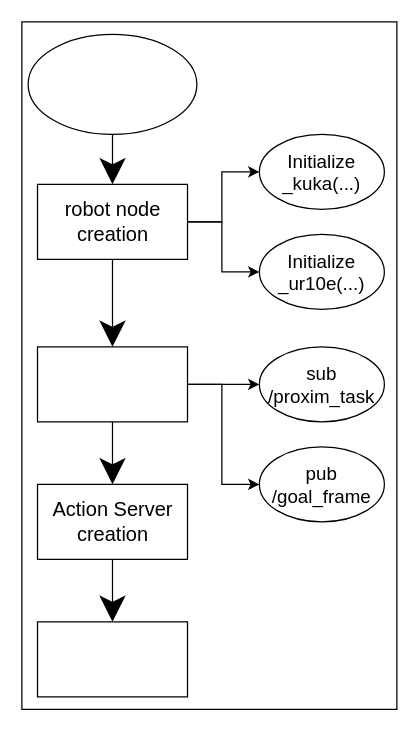
Some shapes in this 419 by 731 pixel diagram are drawn without their labels. The centre of each missing label's shape, as x and y in pixels:
"Data structure handling" goes at pixel 112 659.
"Initialize(...)" goes at pixel 112 83.
"Sub e Pub creation" goes at pixel 112 384.
